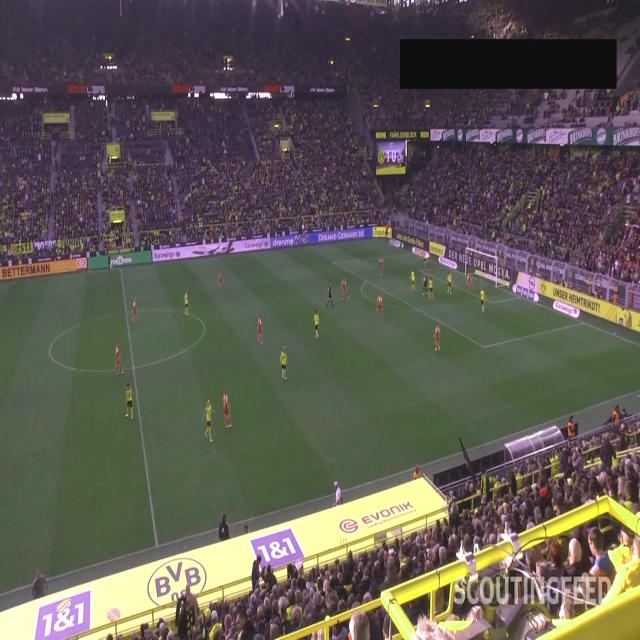ball: (424, 278, 426, 282)
f_player: (201, 398, 216, 444), (221, 389, 232, 429), (278, 344, 289, 382), (114, 340, 125, 376), (124, 382, 134, 421), (255, 314, 265, 344), (432, 322, 442, 352), (312, 308, 320, 341), (374, 292, 384, 318), (340, 277, 350, 302), (132, 296, 140, 326), (478, 286, 486, 314), (183, 289, 190, 317), (410, 268, 418, 292), (465, 271, 473, 293), (217, 269, 224, 294), (428, 275, 434, 301), (422, 272, 428, 296), (378, 255, 384, 278), (447, 270, 452, 296), (422, 252, 428, 268)
umpire: (326, 281, 334, 308)
